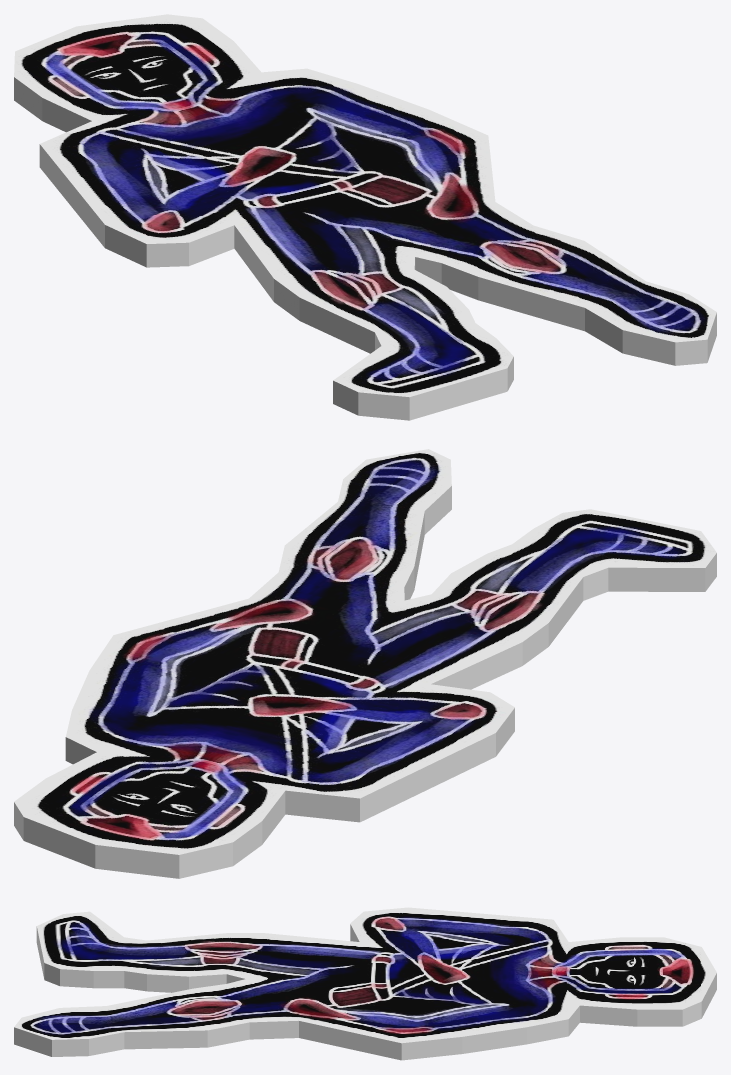
File: astronaut_R_ble_v03.obj
The picture shows the model from 3 angles, top to bottom: view 1: azimuth 30°, elevation 25°; view 2: azimuth 150°, elevation 25°; view 3: azimuth 270°, elevation 25°; orthographic projection. The views are drawn at different scales.
Parts seen in each view (by area): view 1: MeshBody4; view 2: MeshBody4; view 3: MeshBody4.
Boxes of the visible parts, x1,y1,x2,y2 form: MeshBody4: [14, 14, 716, 420]; MeshBody4: [14, 449, 716, 878]; MeshBody4: [14, 907, 716, 1060].
Size of the model in its own units: 0.8456 by 0.05 by 1.85.
Materials: 2 (2 with a texture image).
